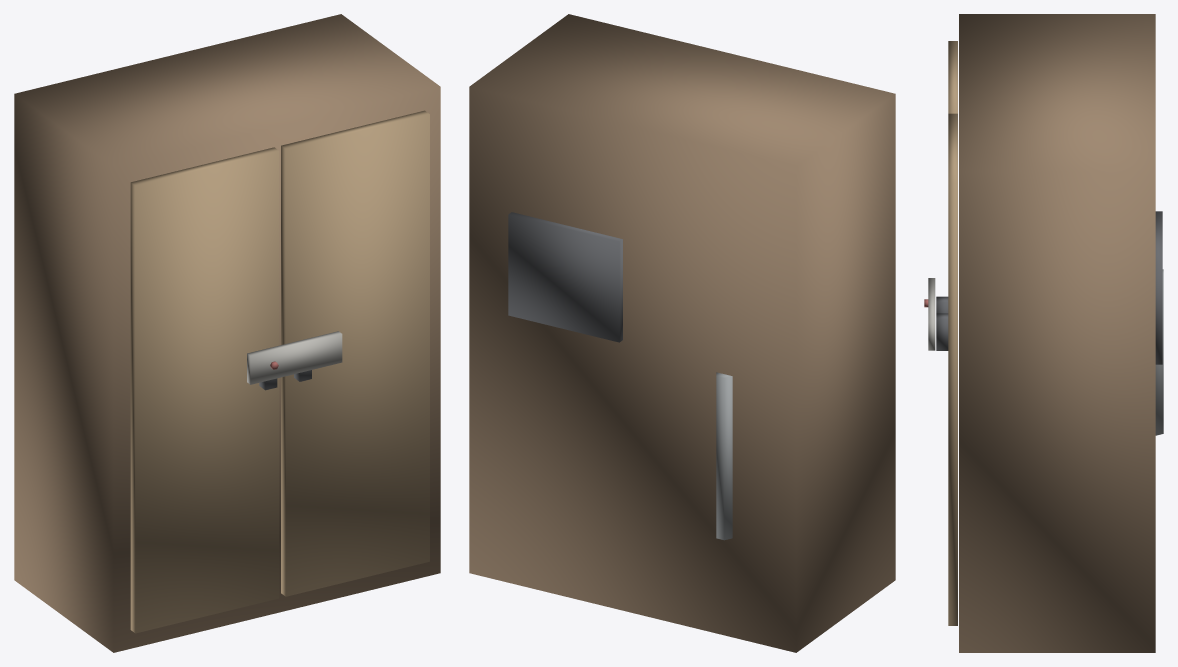
File: mechanical_control_cabinet__service.glb
3 renders of one model, left to right at view 1: azimuth 30°, elevation 25°; view 2: azimuth 150°, elevation 25°; view 3: azimuth 270°, elevation 25°, orthographic.
Parts seen in each view (by area): view 1: world; view 2: world; view 3: world.
Part boxes in pixels (<box>): world: <box>14,14,440,652</box>; world: <box>469,14,895,652</box>; world: <box>924,14,1163,652</box>.
Bounding box in the file's own units: 0.95 × 1.35 × 0.6091.
